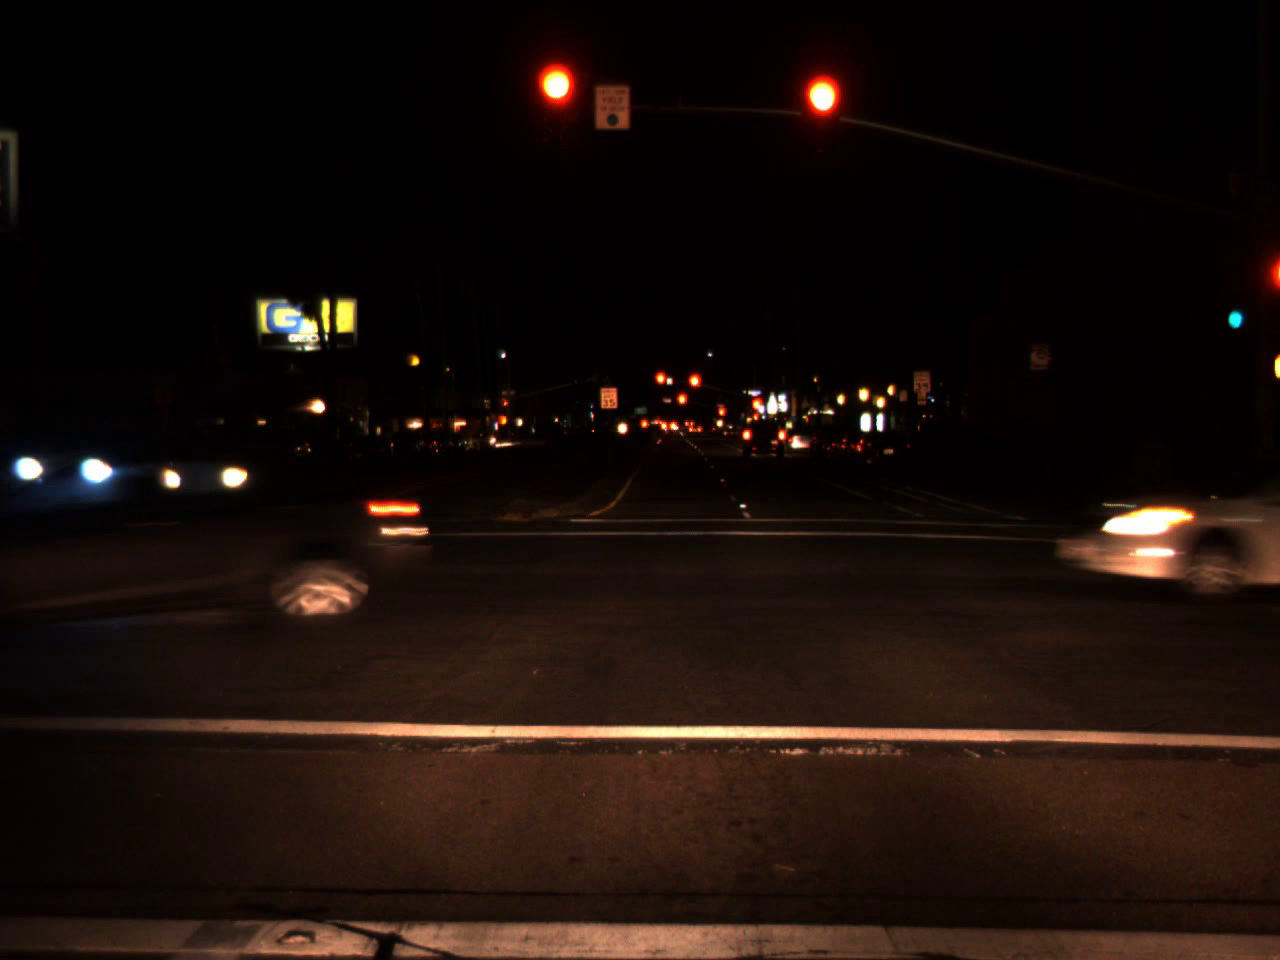stop: (537, 65, 577, 143), (801, 75, 841, 153), (686, 371, 702, 403), (653, 369, 668, 401), (676, 391, 688, 418), (717, 403, 727, 430), (750, 396, 763, 412), (502, 401, 508, 411)
